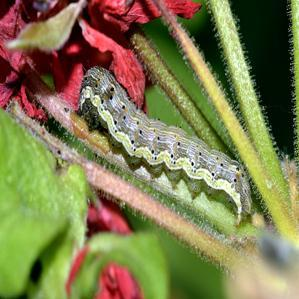Cotton bollworm: (71, 56, 262, 228)
